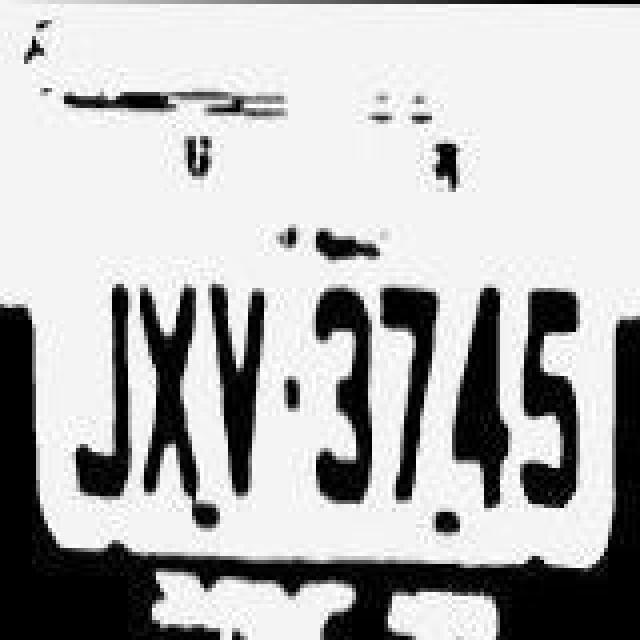3: (298, 274, 374, 506)
4: (444, 270, 516, 502)
5: (516, 280, 588, 512)
7: (376, 274, 448, 514)
J: (68, 276, 132, 508)
V: (200, 284, 272, 504)
X: (132, 276, 204, 508)
